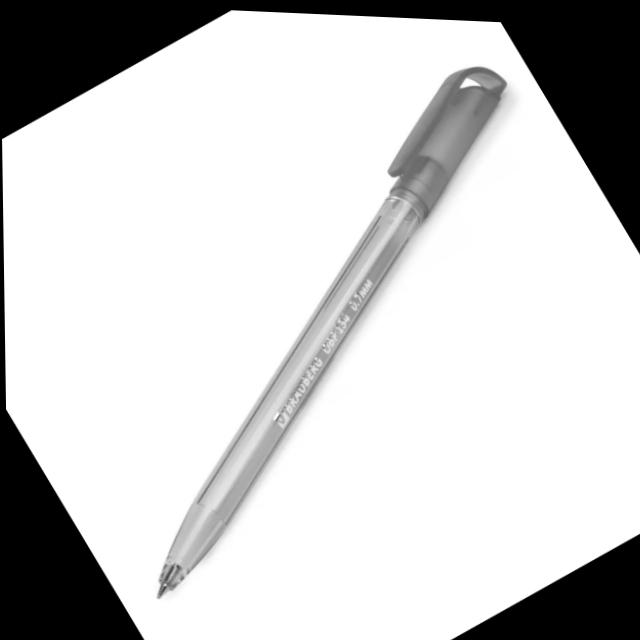pen: (0, 29, 640, 622)
